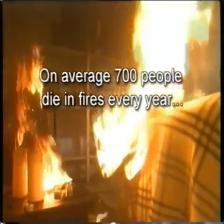fire: (17, 52, 69, 190), (134, 0, 192, 108), (96, 105, 147, 179)
